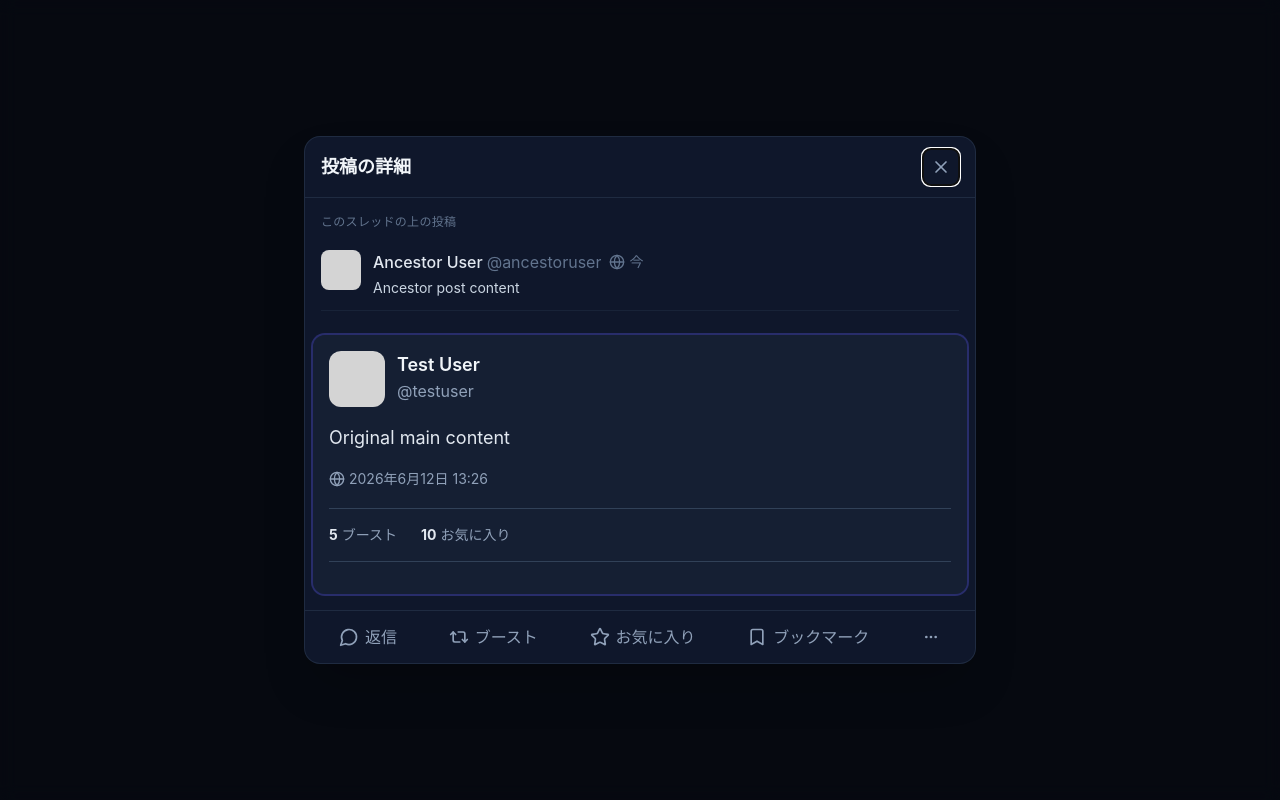
Test case: StatusDetailModal › thread navigation › should update main status content after navigation
Expected: the text "Ancestor User" is shown, left=373, top=252, right=483, bottom=272
Expected: the text "Original main content" is shown, left=329, top=427, right=510, bottom=448
Click the text "Ancestor post content": (446, 288) left=373, top=279, right=520, bottom=296
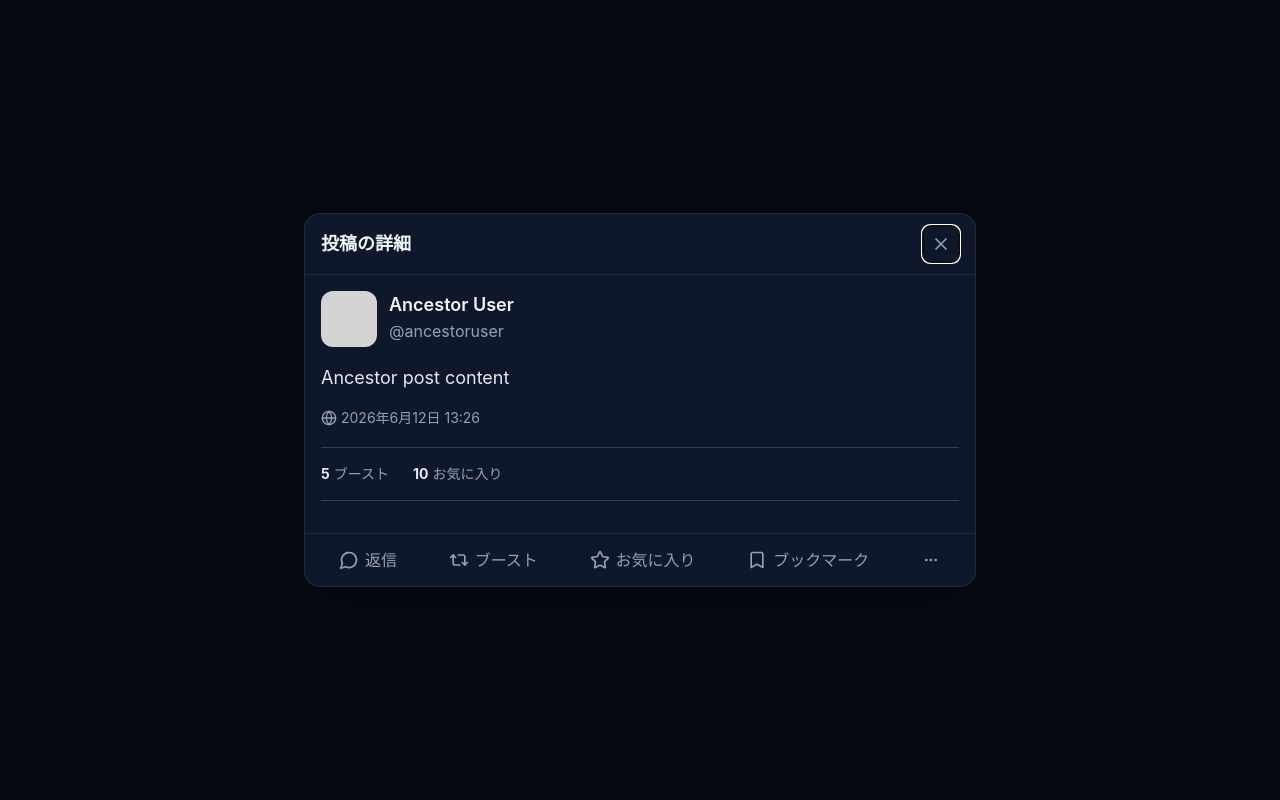
Expected: the text "Ancestor post content" is shown, left=321, top=367, right=509, bottom=388
Result: the text "Ancestor User" is shown at left=389, top=294, right=514, bottom=315
